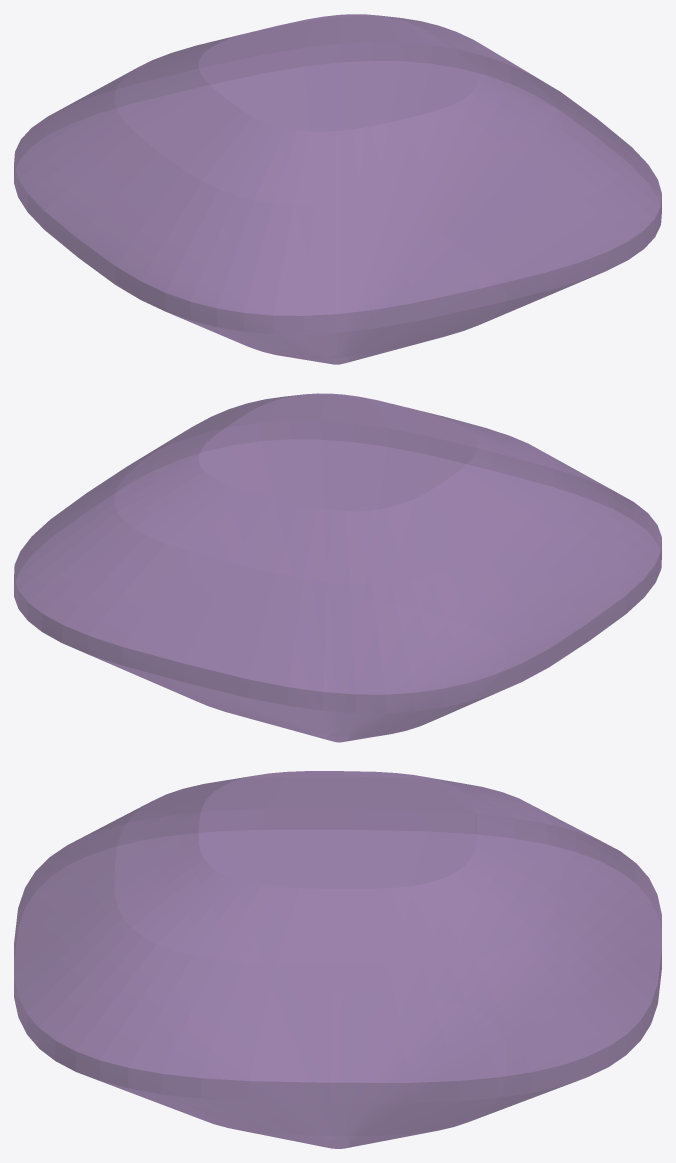
File: stone-spinel.glb
3 views of the same model, one above another, from view 1: azimuth 30°, elevation 25°; view 2: azimuth 150°, elevation 25°; view 3: azimuth 270°, elevation 25° (orthographic). The views are drawn at different scales.
Parts seen in each view (by area): view 1: Sculpture; view 2: Sculpture; view 3: Sculpture.
Part boxes in pixels (x1,y1,x2,y2): Sculpture: (14, 14, 661, 364); Sculpture: (14, 393, 661, 742); Sculpture: (14, 771, 661, 1148).
Bounding box in the file's own units: 2 × 1.07 × 2.
